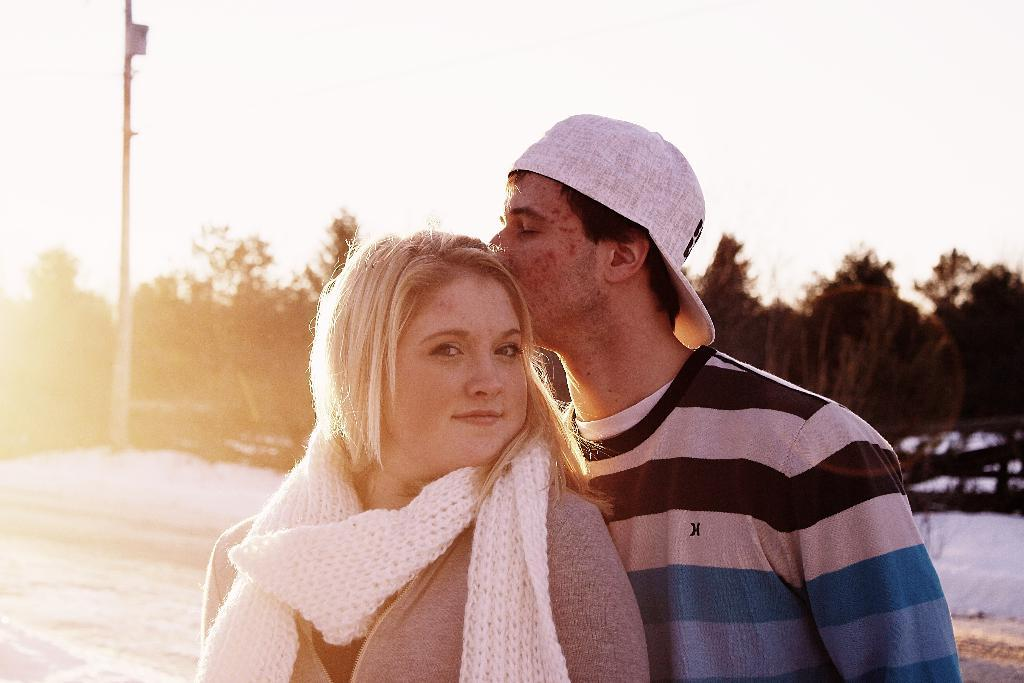Hat: (505, 103, 717, 345)
